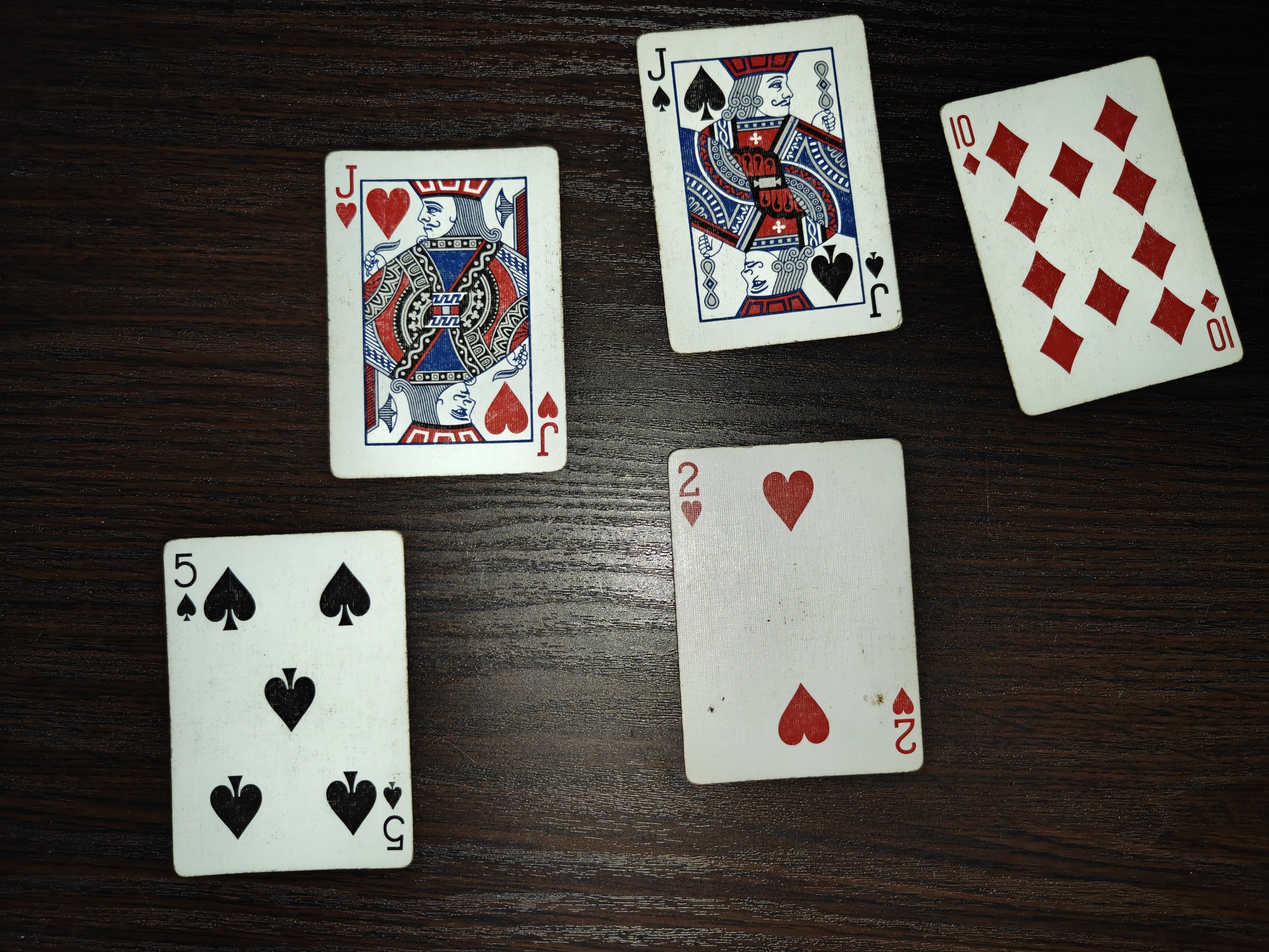10D: (940, 53, 1244, 415)
2H: (667, 435, 926, 785)
5S: (163, 526, 414, 878)
JH: (322, 144, 570, 481)
JS: (636, 14, 905, 357)
